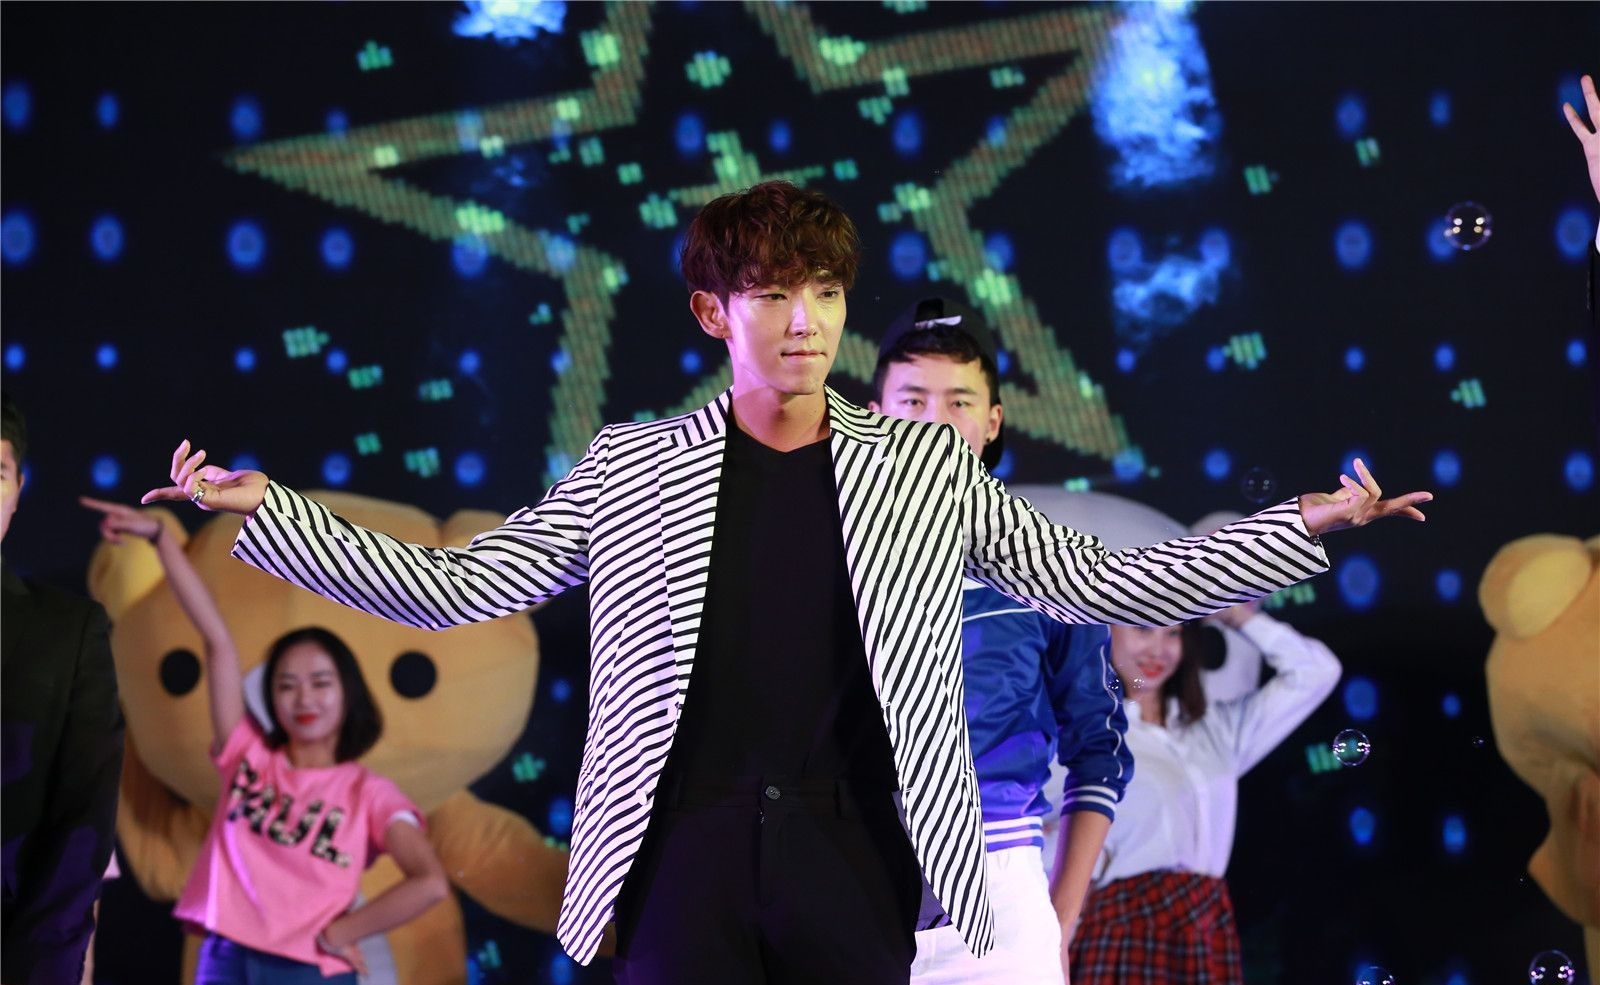face: (734, 251, 840, 389), (887, 363, 992, 464), (277, 651, 342, 745), (1113, 617, 1183, 683)
